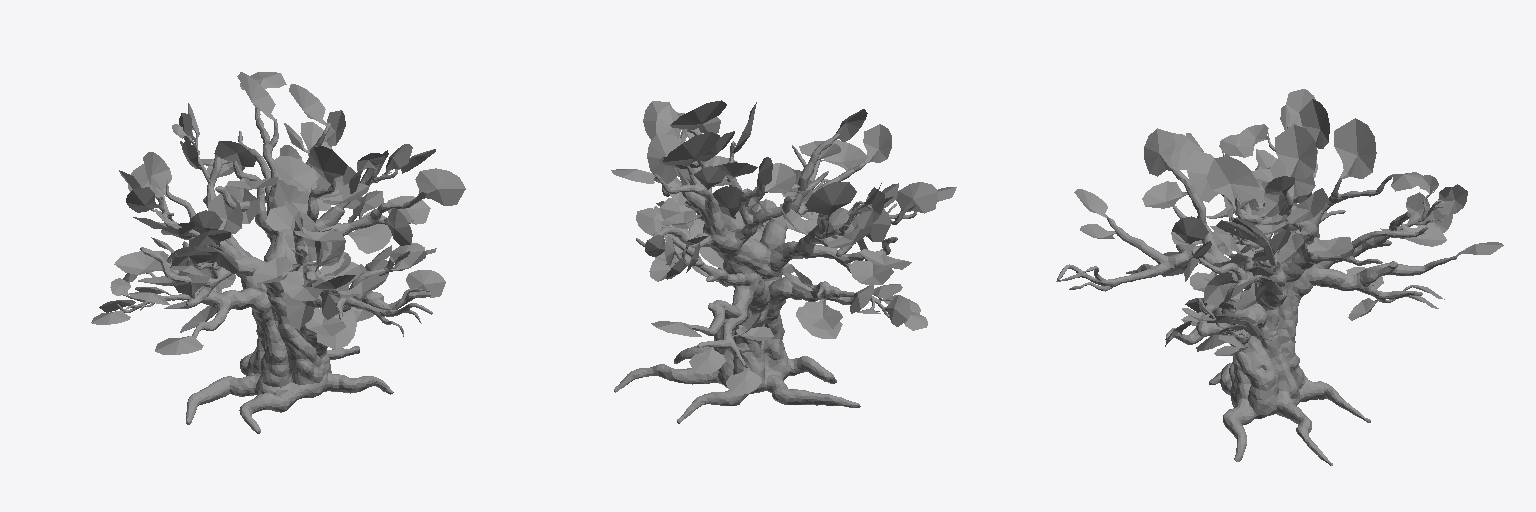
Rendered from hangman_tree.obj.
3 renders of one model, left to right at view 1: azimuth 30°, elevation 25°; view 2: azimuth 150°, elevation 25°; view 3: azimuth 270°, elevation 25°, orthographic.
Parts seen in each view (by area): view 1: leaves, ancientTREE, leaves_8, leaves_6, leaves_3, leaves_4, branch_3, leaves_5, leaves_7; view 2: ancientTREE, leaves, leaves_8, leaves_4, leaves_3, leaves_6, leaves_5, leaves_7; view 3: leaves, ancientTREE, leaves_4, leaves_5, leaves_6, leaves_8, branch_3, leaves_7.
Boxes of the visible parts, x1=… form: leaves: x1=114, y1=72, x2=465, y2=354; ancientTREE: x1=140, y1=108, x2=431, y2=433; leaves_8: x1=349, y1=144, x2=435, y2=193; leaves_6: x1=119, y1=170, x2=194, y2=235; leaves_3: x1=91, y1=278, x2=171, y2=324; leaves_4: x1=151, y1=237, x2=238, y2=277; branch_3: x1=345, y1=288, x2=432, y2=336; leaves_5: x1=172, y1=103, x2=202, y2=169; leaves_7: x1=365, y1=243, x2=436, y2=277; ancientTREE: x1=614, y1=130, x2=897, y2=423; leaves: x1=611, y1=100, x2=920, y2=394; leaves_8: x1=643, y1=101, x2=720, y2=183; leaves_4: x1=866, y1=182, x2=956, y2=241; leaves_3: x1=850, y1=284, x2=927, y2=330; leaves_6: x1=828, y1=183, x2=893, y2=247; leaves_5: x1=644, y1=234, x2=707, y2=279; leaves_7: x1=636, y1=203, x2=704, y2=246; leaves: x1=1074, y1=99, x2=1503, y2=355; ancientTREE: x1=1107, y1=141, x2=1456, y2=465; leaves_4: x1=1171, y1=133, x2=1254, y2=202; leaves_5: x1=1406, y1=175, x2=1467, y2=232; leaves_6: x1=1237, y1=89, x2=1317, y2=177; leaves_8: x1=1210, y1=195, x2=1275, y2=265; branch_3: x1=1056, y1=264, x2=1157, y2=291; leaves_7: x1=1197, y1=302, x2=1261, y2=347.
Size of the model in its own units: 22.58 by 20.11 by 27.05.